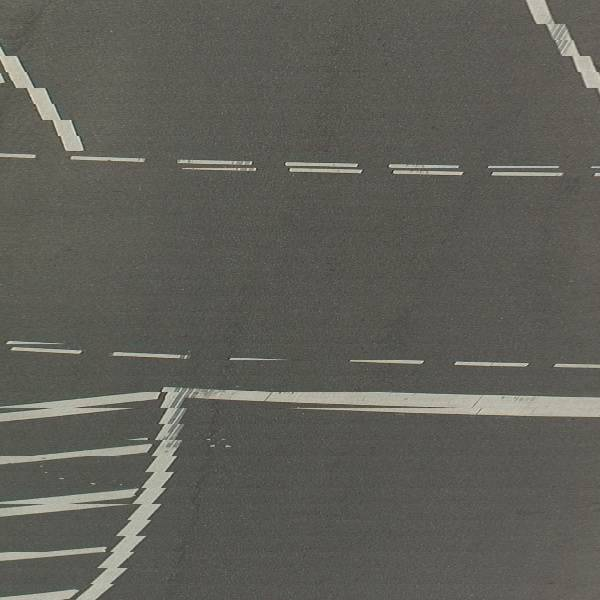road_damage: (176, 406, 220, 585)
